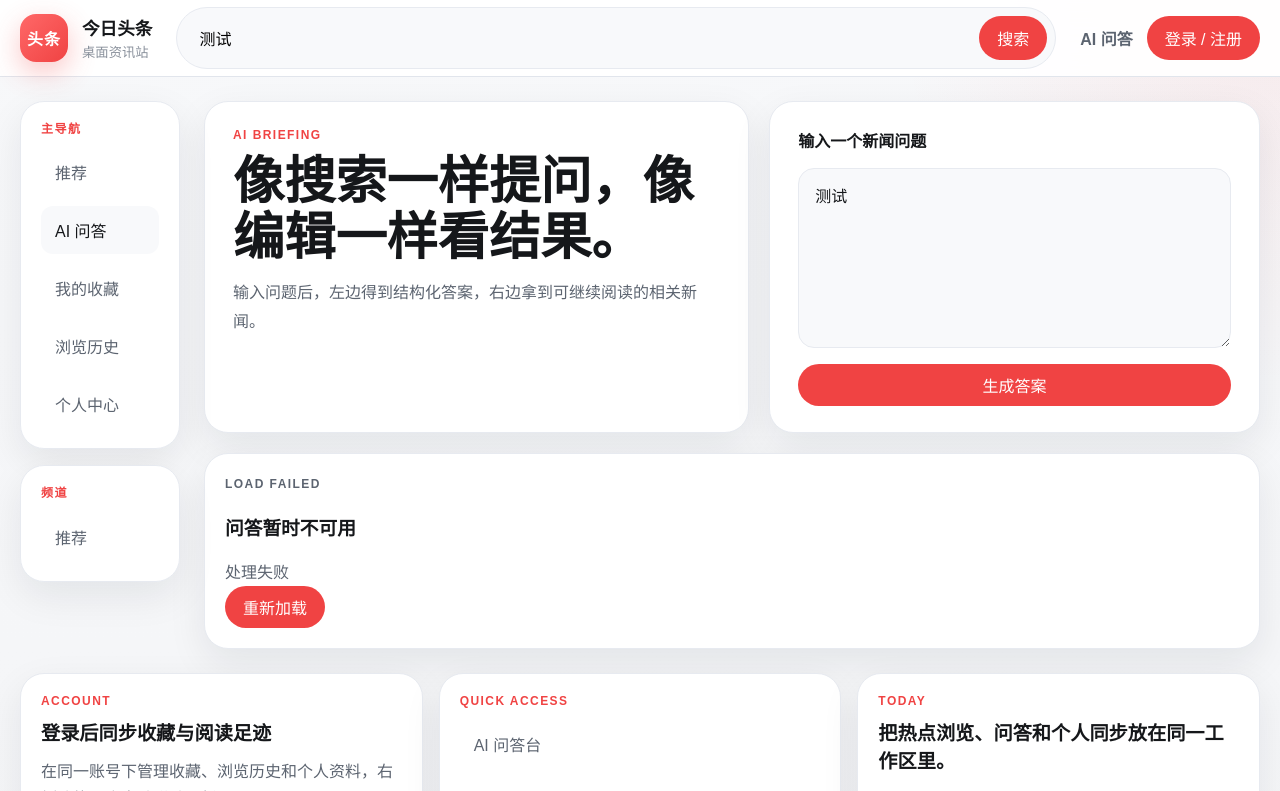
AskPage › shows an error message and allows retrying the same question
This screenshot has width=1280, height=791.
Expected: the heading "问答暂时不可用" is shown, [225,518,356,539]
Expected: the text "处理失败" is shown, [225,564,289,581]
Click the button "重新加载".
click(275, 607)  # box [225,586,325,628]
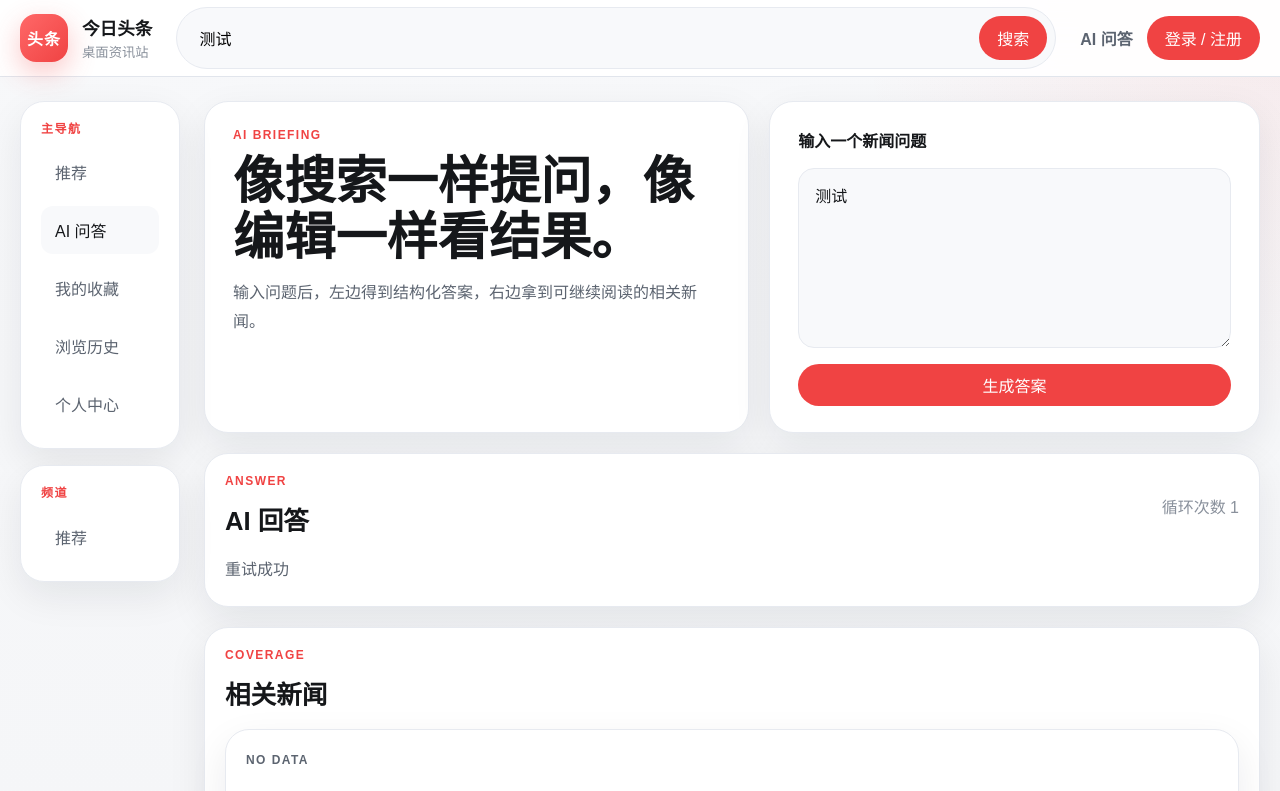
Expected: the text "重试成功" is shown, [225,561,289,578]
